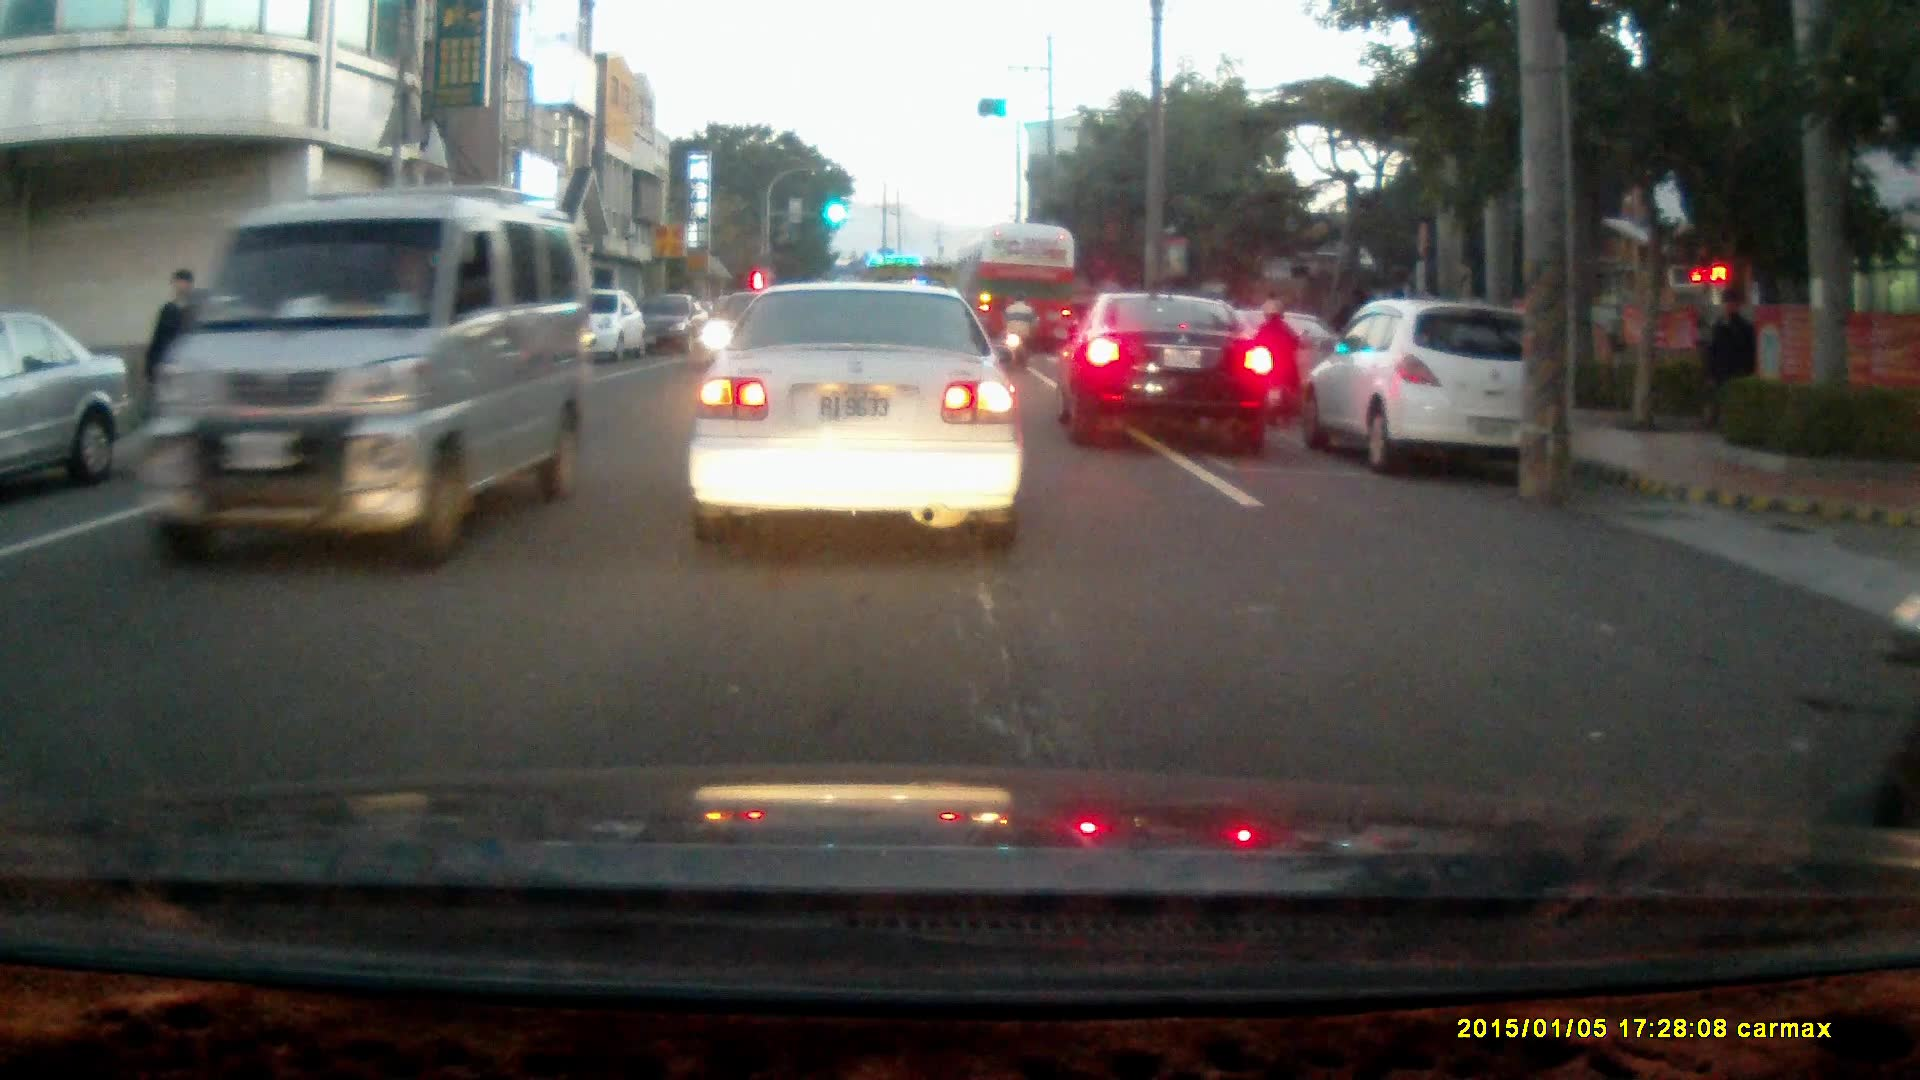pedestrian: (149, 266, 219, 479), (1702, 287, 1759, 444)
rider: (1254, 298, 1309, 430), (998, 289, 1042, 374)
vehicle: (128, 187, 597, 568), (683, 281, 1028, 554), (1294, 296, 1567, 481), (1057, 293, 1281, 456), (1, 309, 129, 501), (967, 222, 1080, 360), (551, 288, 642, 363)
